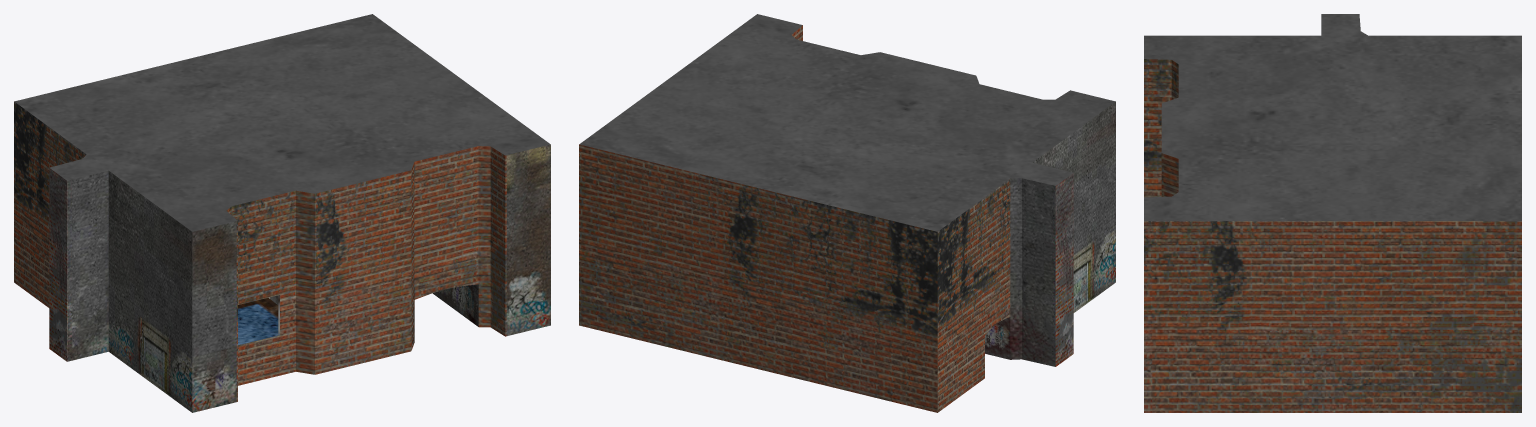
File: Building03_Set.fbx
The picture shows the model from 3 angles, left to right: view 1: azimuth 30°, elevation 25°; view 2: azimuth 150°, elevation 25°; view 3: azimuth 270°, elevation 25°; orthographic projection. The views are drawn at different scales.
Visible parts, largest first — view 1: Building03_Set; view 2: Building03_Set; view 3: Building03_Set.
Part boxes in pixels (x1,y1,x2,y2): Building03_Set: (14,14,550,412); Building03_Set: (579,14,1115,412); Building03_Set: (1144,14,1521,412).
Bounding box in the file's own units: 31.71 × 13.72 × 24.46.
